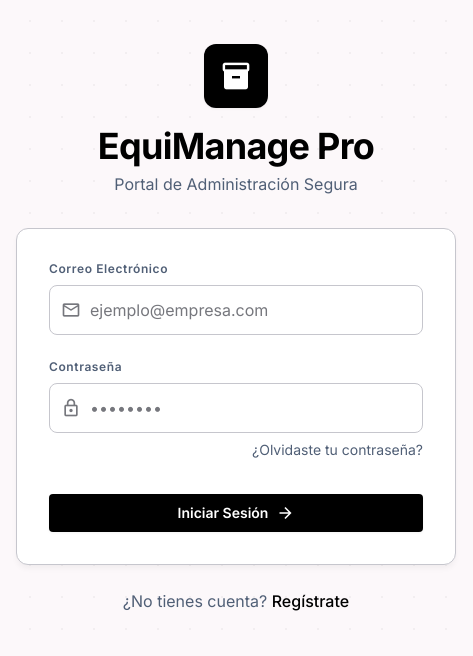
LoginPage › muestra errores de validación si se envía el formulario vacío
The image size is (473, 656).
Click the button "Iniciar Sesión".
click(236, 512)  # box [49,494,423,532]
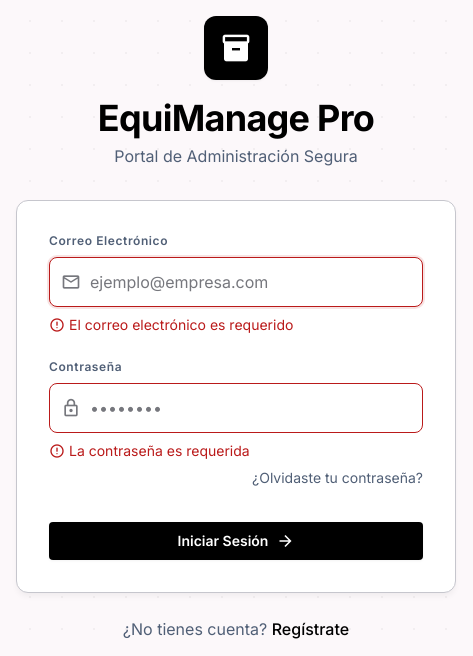
Check: the message "El correo electrónico es requerido" is shown, box [49,314,293,334]
